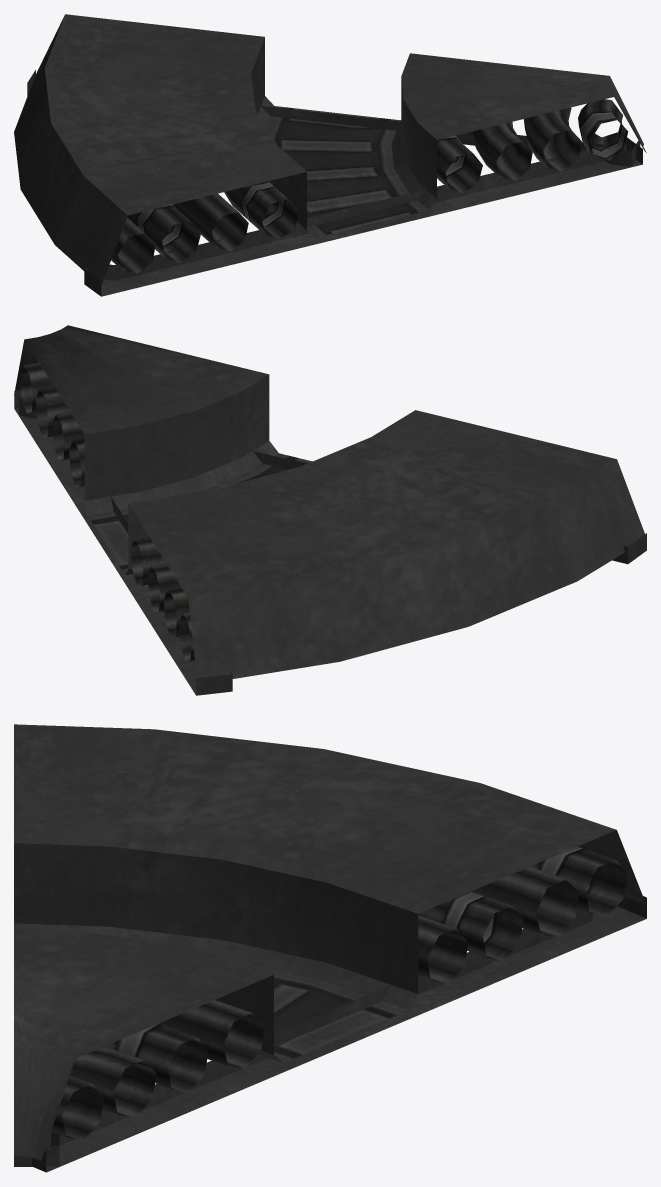
File: lab_cable_ladder_turn_45_inner.dae
3 views of the same model, one above another, from view 1: azimuth 30°, elevation 25°; view 2: azimuth 150°, elevation 25°; view 3: azimuth 270°, elevation 25° (orthographic). The views are drawn at different scales.
Visible parts, largest first — view 1: lab_cable_ladder_turn_45_inner; view 2: lab_cable_ladder_turn_45_inner; view 3: lab_cable_ladder_turn_45_inner.
Part boxes in pixels (x1=…): lab_cable_ladder_turn_45_inner: x1=14, y1=14, x2=646, y2=296; lab_cable_ladder_turn_45_inner: x1=14, y1=325, x2=646, y2=695; lab_cable_ladder_turn_45_inner: x1=14, y1=724, x2=646, y2=1172.
Size of the model in its own units: 1.86 by 0.2398 by 1.36.
